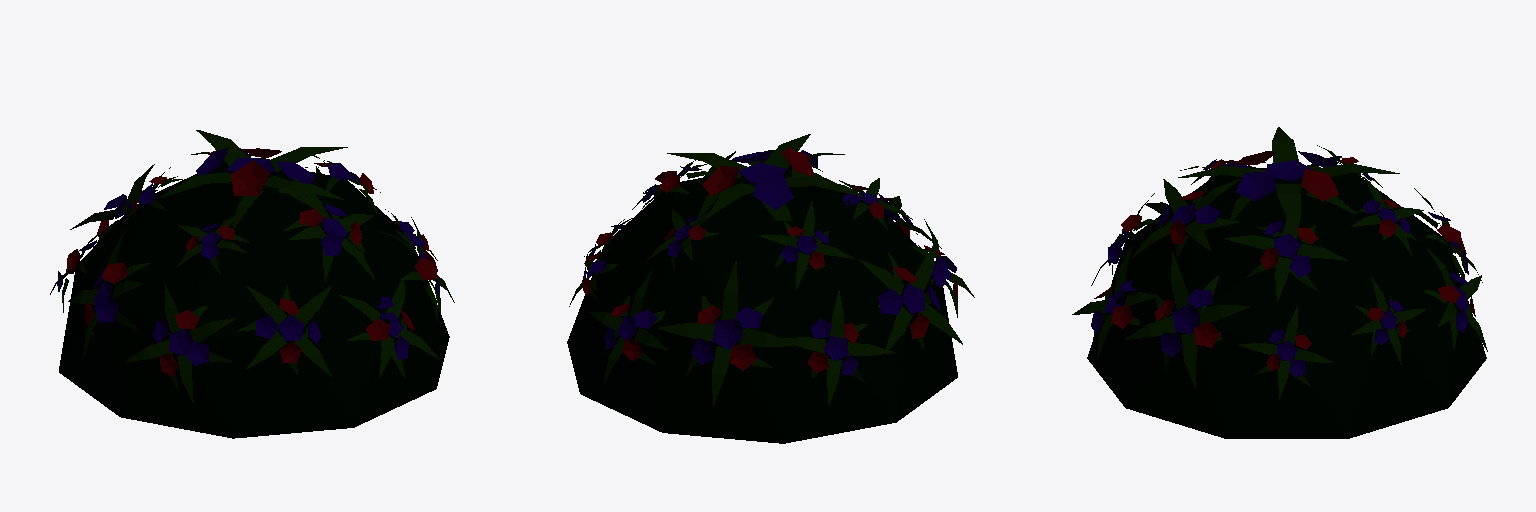
The model's file is Flowers1.obj.
3 views of the same model, side by side, from view 1: azimuth 30°, elevation 25°; view 2: azimuth 150°, elevation 25°; view 3: azimuth 270°, elevation 25° (orthographic).
Visible parts, largest first — view 1: Flowers1_Icosphere.005; view 2: Flowers1_Icosphere.005; view 3: Flowers1_Icosphere.005.
Part boxes in pixels (x1,y1,x2,y2): Flowers1_Icosphere.005: (50, 130, 454, 438); Flowers1_Icosphere.005: (567, 134, 974, 443); Flowers1_Icosphere.005: (1072, 127, 1487, 438).
Bounding box in the file's own units: 2.13 × 1.12 × 2.08.